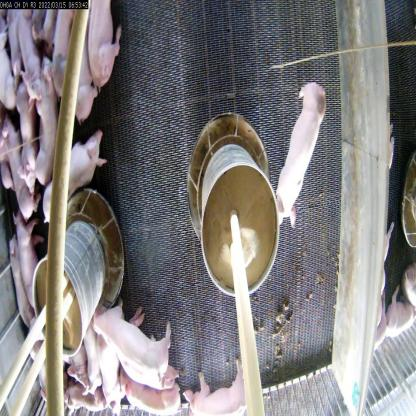Pig: (278, 82, 328, 238), (47, 118, 105, 219), (101, 307, 177, 376), (61, 17, 100, 127), (83, 0, 130, 88), (0, 119, 36, 207), (13, 203, 46, 299), (113, 376, 193, 415), (191, 370, 259, 415), (32, 83, 60, 187), (79, 323, 108, 402), (14, 27, 43, 91)
